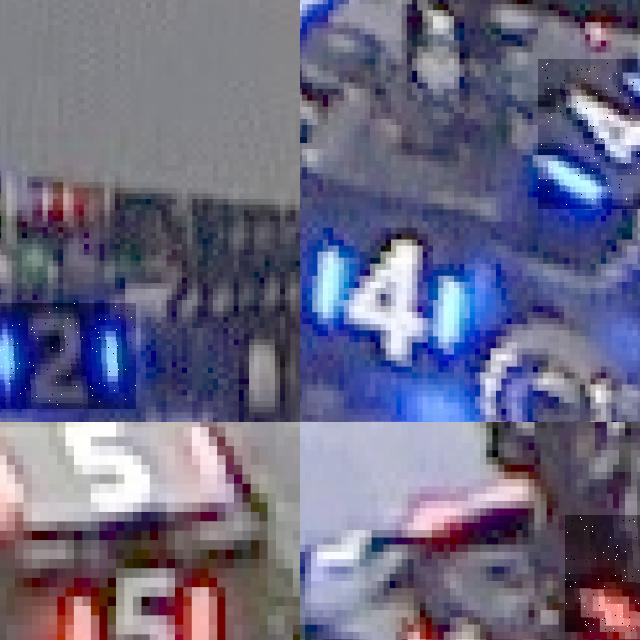B2: (0, 302, 135, 409)
B4: (302, 234, 470, 360), (538, 58, 640, 209)
R4: (564, 515, 640, 631), (368, 599, 537, 640)
R5: (57, 568, 217, 640)
